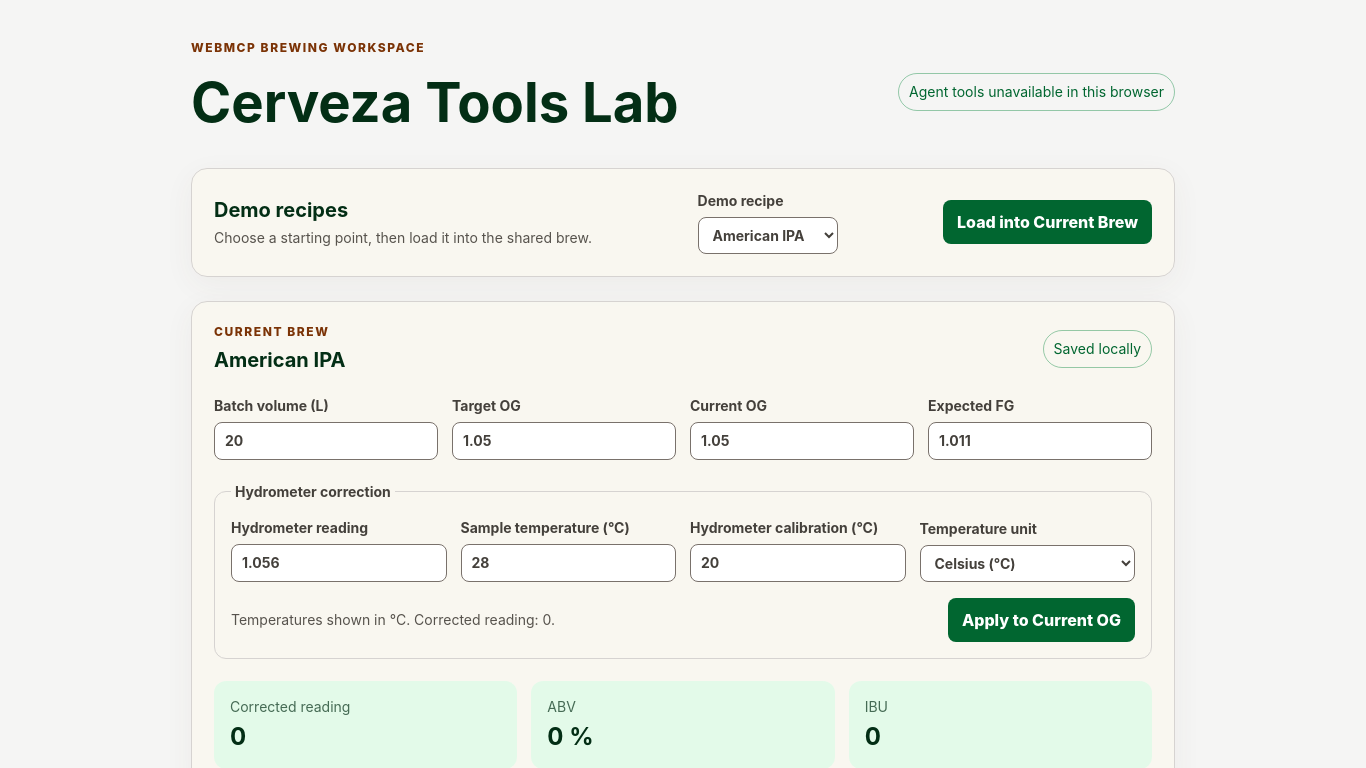
Test: App › loads a selected recipe into the visible current brew
The image size is (1366, 768).
Select "Czech Pilsner" in the dropdown labelled "Demo recipe": (768, 235) [698,217,838,254]
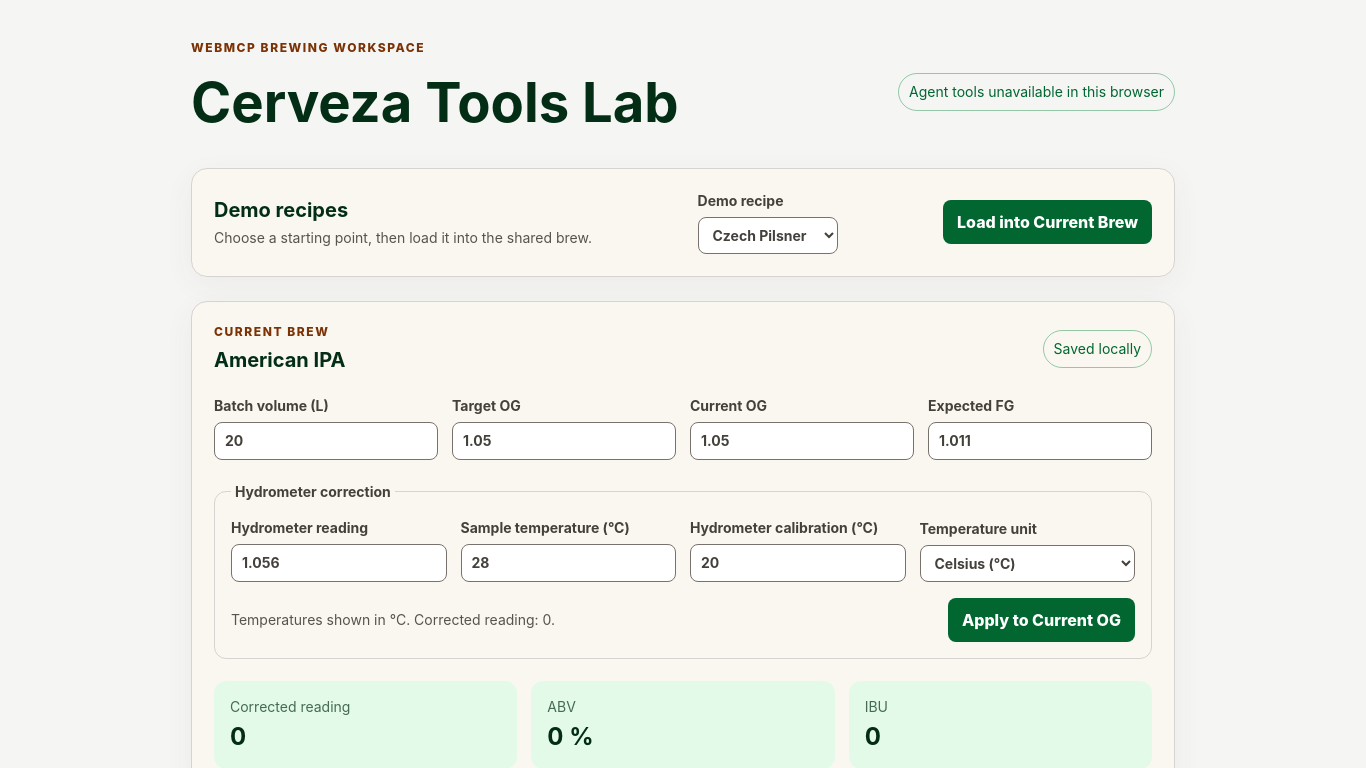
Click the button "Load into Current Brew": (1048, 222) [943,200,1152,244]
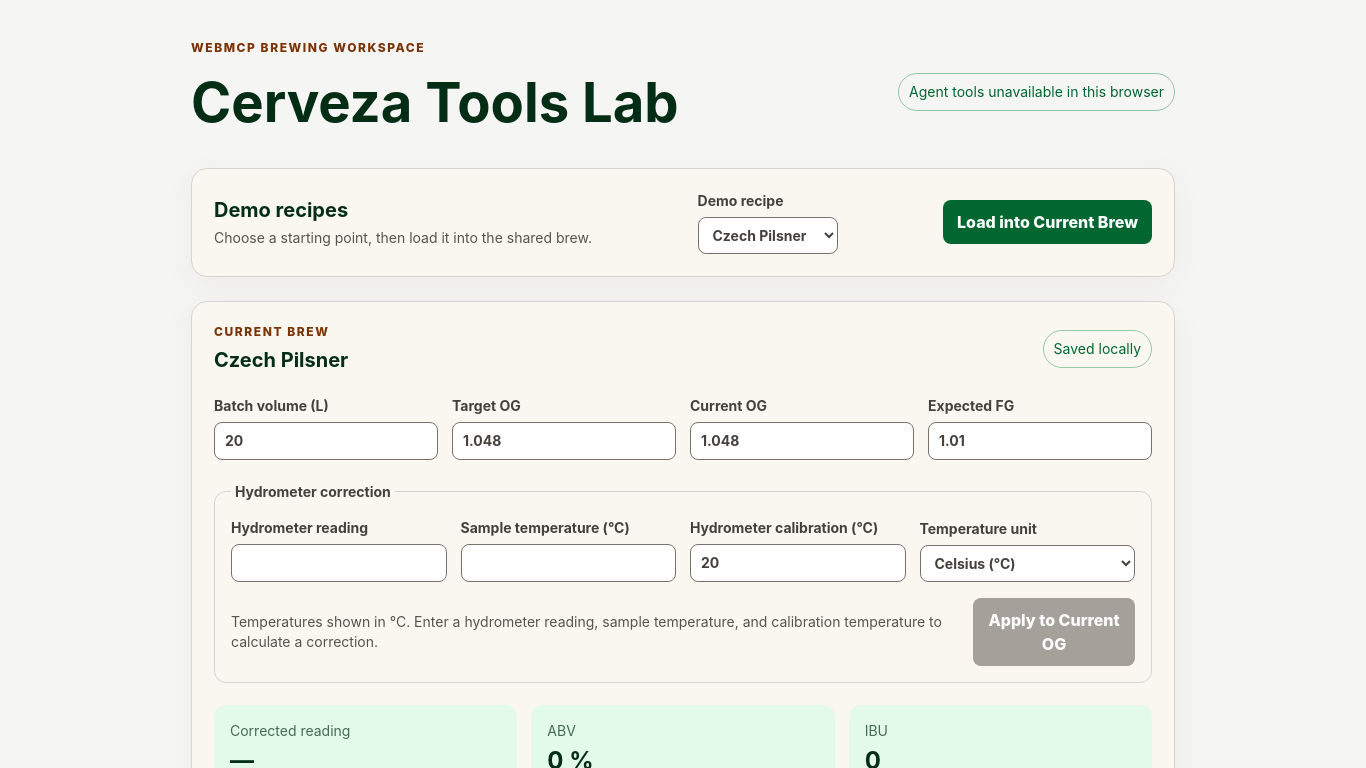
expect the text "IBU" is shown: met, box [865,722,888,739]
expect the heading "Czech Pilsner" is shown: met, box [214,346,348,374]
